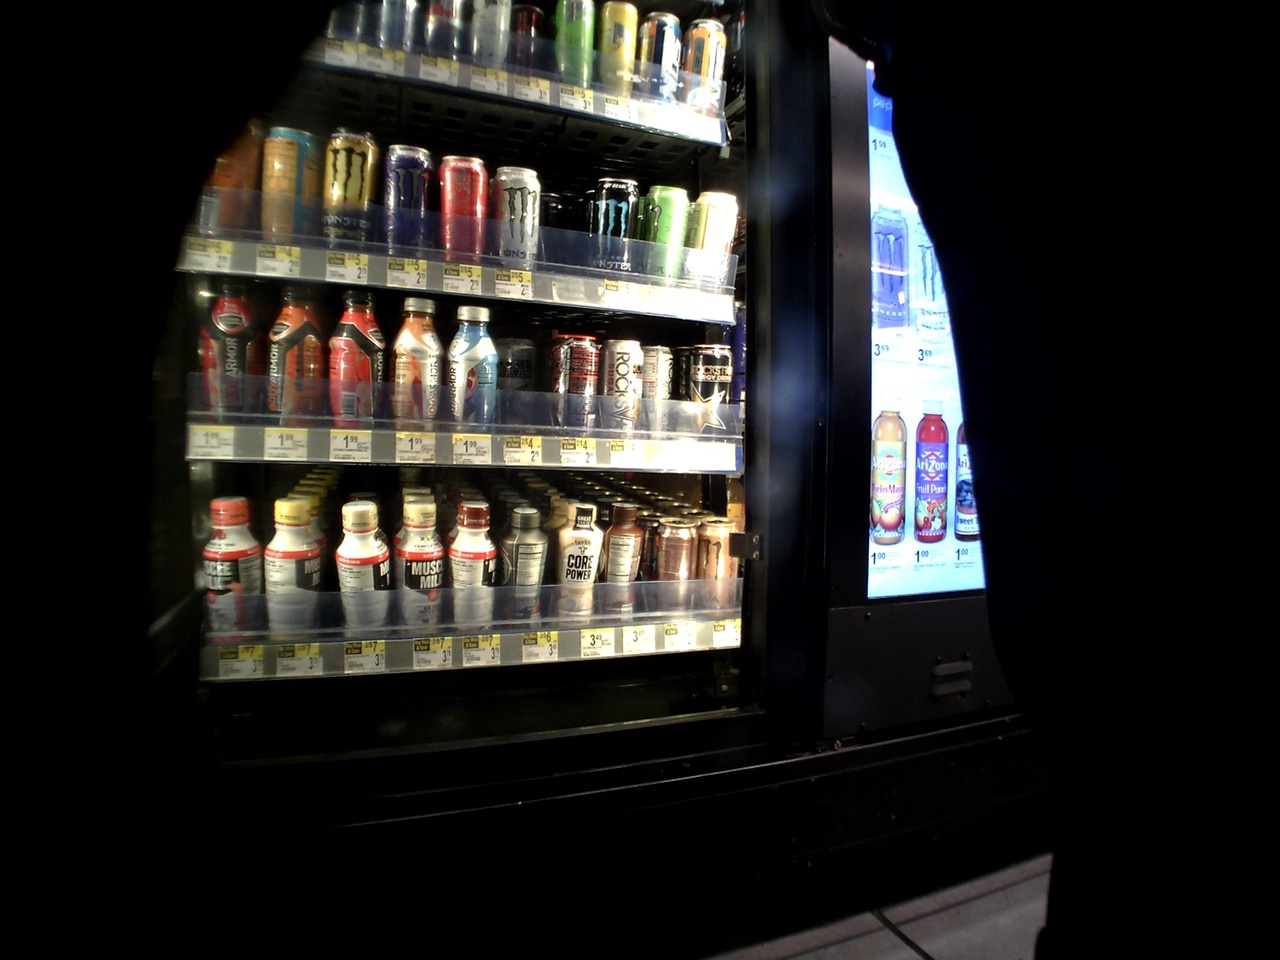shelf: (156, 68, 708, 316), (173, 481, 741, 676), (183, 284, 733, 474)
